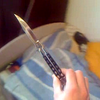knife: (13, 14, 66, 85)
